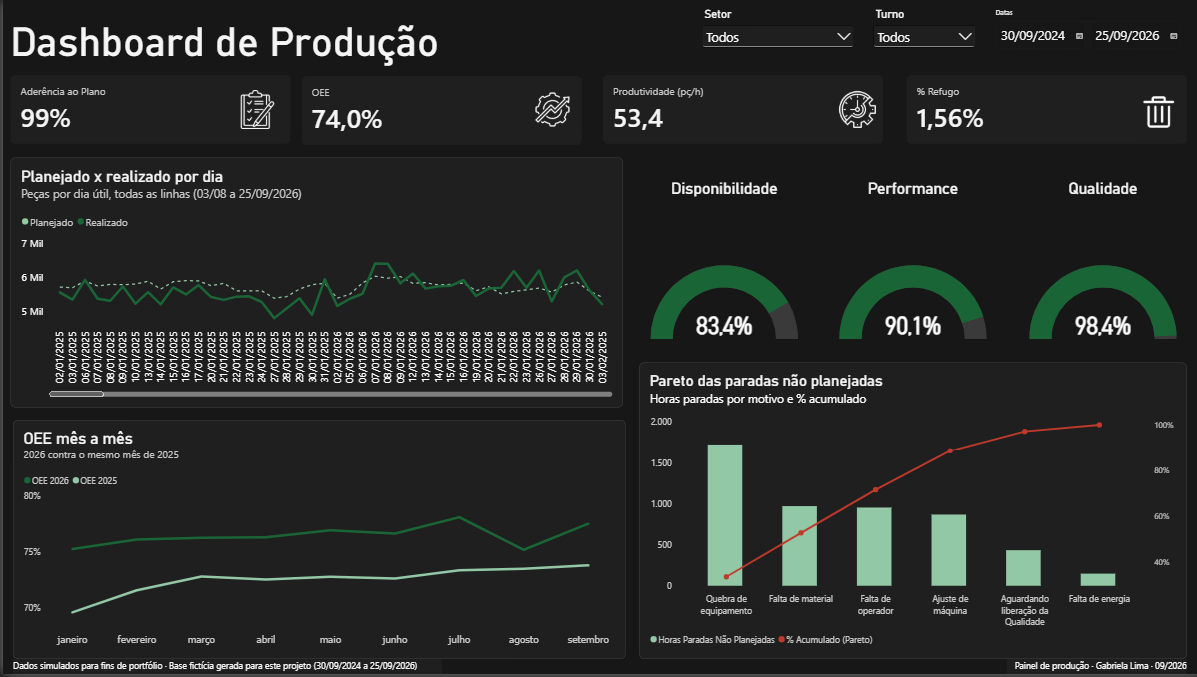

The dashboard page shown, as its layout file describes it:
{"tool":"powerbi","page":{"name":"Gestor","canvas":[2140,1080],"ordinal":0},"visuals":[{"type":"cardVisual","fields":{"Data":["Calendario.Aderência ao Plano"]},"box":[448.3,123.3,315,110],"z":0},{"type":"cardVisual","fields":{"Data":["Calendario.OEE"]},"box":[913.3,123.3,280,110],"z":1000},{"type":"cardVisual","fields":{"Data":["Calendario.Produtividade (pç/h)"]},"box":[1363.3,123.3,278.3,110],"z":2000},{"type":"cardVisual","fields":{"Data":["Calendario.% Refugo"]},"box":[1803.3,123.3,336.7,110],"z":3000},{"type":"lineChart","title":"Planejado x realizado por mês","fields":{"Category":["Calendario.Início do Mês"],"Y":["Calendario.Qtd Planejada","Calendario.Qtd Aprovada"]},"box":[322,246,1016,438],"z":4000},{"type":"slicer","fields":{"Values":["Turno.Turno"]},"box":[1452,48,298,50],"z":5000},{"type":"slicer","fields":{"Values":["LinhaSetor.Setor"]},"box":[1134,48,300,70],"z":6000},{"type":"gauge","fields":{"Y":["Calendario.Disponibilidade"]},"box":[1362.5,398.8,228.8,203.8],"z":7000},{"type":"gauge","fields":{"Y":["Calendario.Performance"]},"box":[1621.2,398.8,237.5,203.8],"z":8000},{"type":"gauge","fields":{"Y":["Calendario.Qualidade"]},"box":[1880,398.8,237.5,203.8],"z":9000},{"type":"slicer","fields":{"Values":["Calendario.Datas"]},"box":[1774,38,366,86],"z":10000},{"type":"lineChart","title":"OEE mês a mês","fields":{"Category":["Calendario.Nome do Mês"],"Y":["Calendario.OEE","Calendario.OEE Ano Anterior"]},"box":[322,698,1016,356],"z":11000},{"type":"clusteredColumnChart","title":"Planejado x realizado por linha","fields":{"Category":["LinhaSetor.Linha"],"Y":["Calendario.Qtd Aprovada","Calendario.Qtd Planejada"]},"box":[1362,602,756,452],"z":12000},{"type":"actionButton","box":[0,436,282,104],"z":13000},{"type":"actionButton","box":[0,540,282,104],"z":14000},{"type":"actionButton","box":[0,645,282,104],"z":14001}]}

Visuals, with their boxes on the page's 2140x1080 design canvas (x1, y1, x2, y2). These are canvas units, not pixel positions in the 1197x677 screenshot, which may show the page scaled, cropped or inside an application window:
cardVisual - Calendario.Aderência ao Plano: box=[448, 123, 763, 233]
cardVisual - Calendario.OEE: box=[913, 123, 1193, 233]
cardVisual - Calendario.Produtividade (pç/h): box=[1363, 123, 1642, 233]
cardVisual - Calendario.% Refugo: box=[1803, 123, 2140, 233]
"Planejado x realizado por mês" lineChart: box=[322, 246, 1338, 684]
slicer - Turno.Turno: box=[1452, 48, 1750, 98]
slicer - LinhaSetor.Setor: box=[1134, 48, 1434, 118]
gauge - Calendario.Disponibilidade: box=[1362, 399, 1591, 603]
gauge - Calendario.Performance: box=[1621, 399, 1859, 603]
gauge - Calendario.Qualidade: box=[1880, 399, 2118, 603]
slicer - Calendario.Datas: box=[1774, 38, 2140, 124]
"OEE mês a mês" lineChart: box=[322, 698, 1338, 1054]
"Planejado x realizado por linha" clusteredColumnChart: box=[1362, 602, 2118, 1054]
actionButton: box=[0, 436, 282, 540]
actionButton: box=[0, 540, 282, 644]
actionButton: box=[0, 645, 282, 749]
